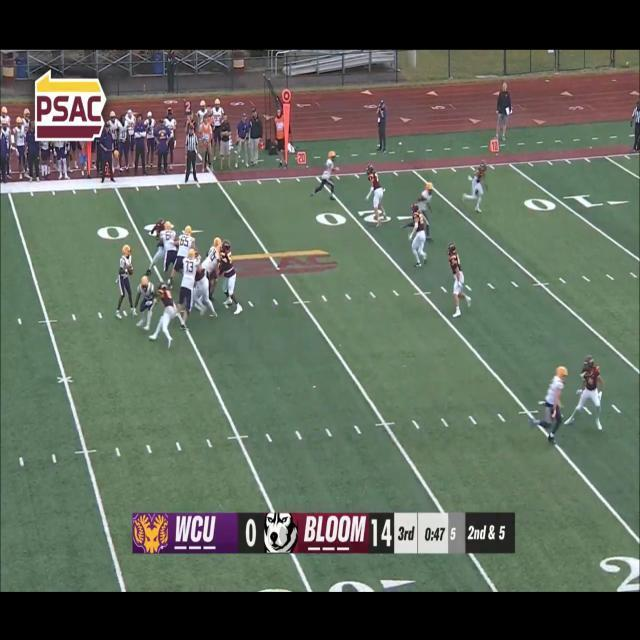football: (125, 264, 135, 278)
